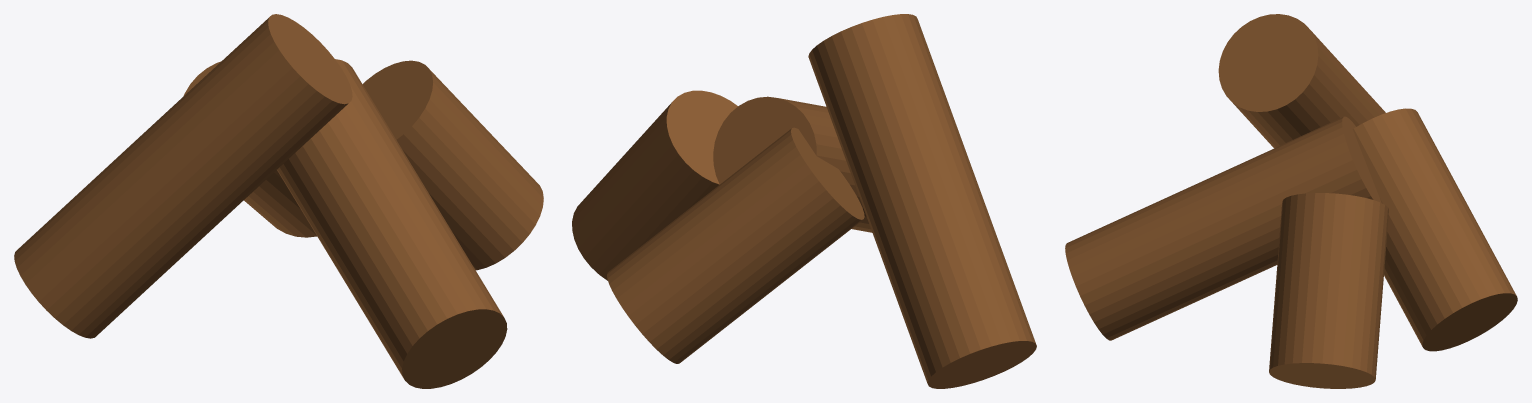
Rendered from Rubble.fbx.
3 views of the same model, side by side, from view 1: azimuth 30°, elevation 25°; view 2: azimuth 150°, elevation 25°; view 3: azimuth 270°, elevation 25° (orthographic). The views are drawn at different scales.
Visible parts, largest first — view 1: Cylinder.001; view 2: Cylinder.001; view 3: Cylinder.001.
Part boxes in pixels (left/top/right/bottom): Cylinder.001: left=14, top=14, right=543, bottom=388; Cylinder.001: left=572, top=14, right=1036, bottom=388; Cylinder.001: left=1065, top=14, right=1517, bottom=388.
Size of the model in its own units: 948 by 588 by 845.
